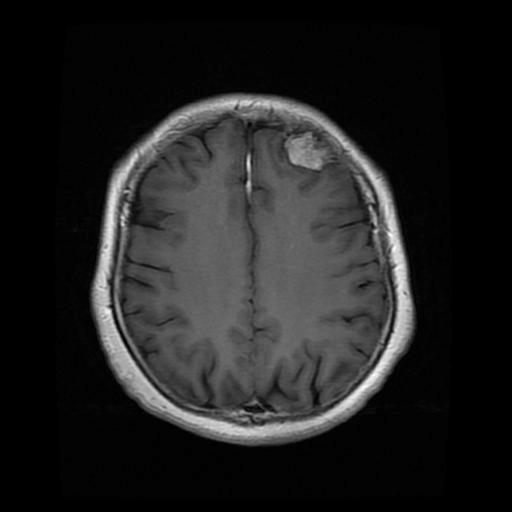Tumour-Meningioma: (261, 130, 351, 179)
